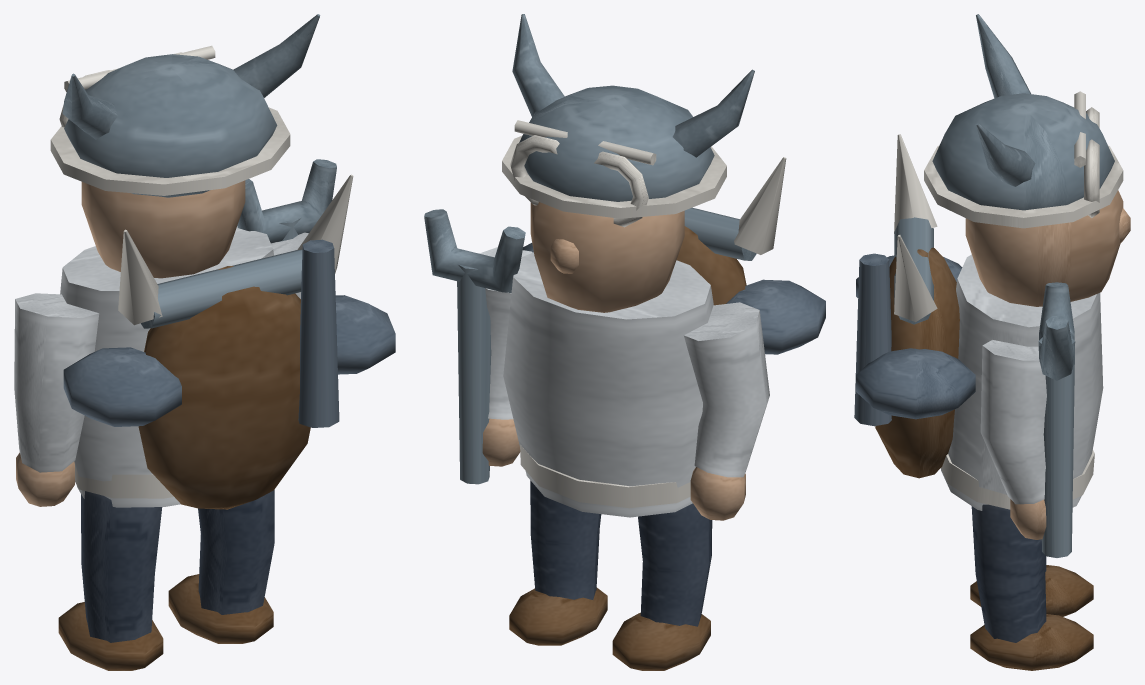
File: engineer.glb
The picture shows the model from 3 angles, left to right: view 1: azimuth 30°, elevation 25°; view 2: azimuth 150°, elevation 25°; view 3: azimuth 270°, elevation 25°; orthographic projection. The views are drawn at different scales.
Parts seen in each view (by area): view 1: Body, FactionBrute, LegL, ArmL, LegR, FactionIndustrial, FactionArcane, Tool; view 2: Body, ArmL, LegL, Tool, LegR, FactionBrute, ArmR, FactionIndustrial, FactionArcane; view 3: Body, LegR, FactionBrute, ArmR, Tool, FactionIndustrial, FactionArcane, LegL.
Part boxes in pixels (x1=…): Body: x1=50, y1=54, x2=310, y2=509; FactionBrute: x1=62, y1=14, x2=395, y2=426; LegL: x1=58, y1=491, x2=163, y2=670; ArmL: x1=14, y1=293, x2=99, y2=506; LegR: x1=168, y1=490, x2=274, y2=643; FactionIndustrial: x1=59, y1=45, x2=339, y2=427; FactionArcane: x1=118, y1=174, x2=353, y2=325; Tool: x1=237, y1=159, x2=336, y2=243; Body: x1=502, y1=85, x2=756, y2=517; ArmL: x1=684, y1=302, x2=769, y2=520; LegL: x1=612, y1=503, x2=712, y2=670; Tool: x1=424, y1=209, x2=525, y2=484; LegR: x1=509, y1=480, x2=607, y2=645; FactionBrute: x1=512, y1=14, x2=825, y2=354; ArmR: x1=479, y1=247, x2=532, y2=466; FactionIndustrial: x1=510, y1=120, x2=656, y2=227; FactionArcane: x1=734, y1=157, x2=786, y2=254; Body: x1=875, y1=93, x2=1130, y2=510; LegR: x1=970, y1=504, x2=1093, y2=670; FactionBrute: x1=856, y1=14, x2=1035, y2=419; ArmR: x1=980, y1=340, x2=1046, y2=539; Tool: x1=1038, y1=282, x2=1075, y2=557; FactionIndustrial: x1=854, y1=91, x2=1099, y2=426; FactionArcane: x1=894, y1=134, x2=937, y2=321; LegL: x1=970, y1=557, x2=1093, y2=616.
Size of the model in its own units: 0.206 by 0.36 by 0.1578.
Materials: 7 (7 with a texture image).
